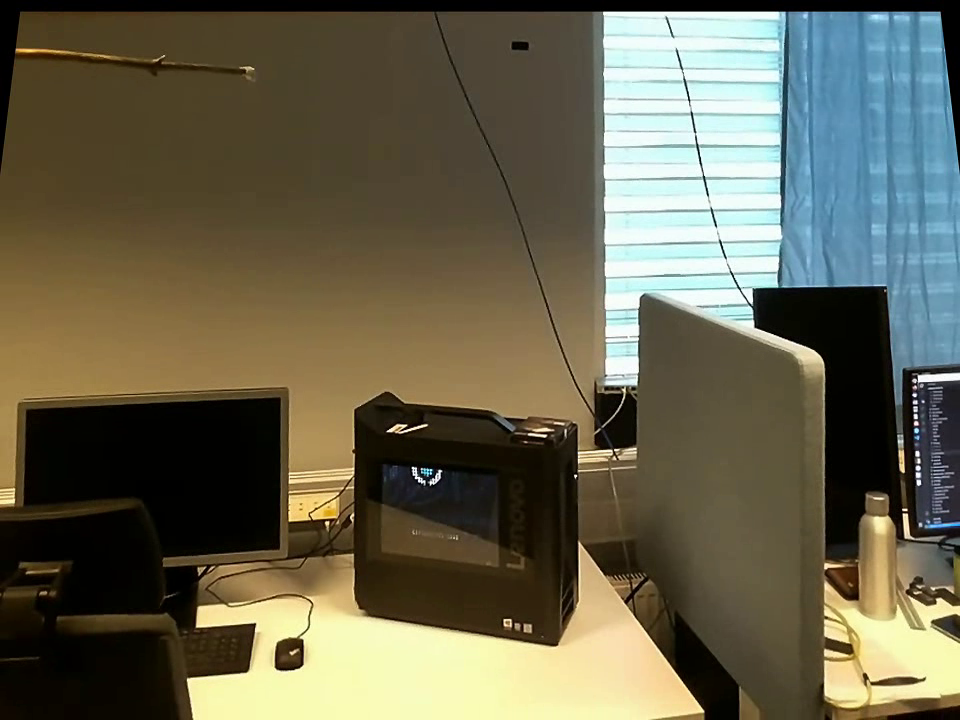branch: (14, 39, 239, 85)
